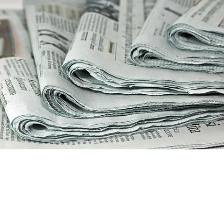news_paper: (0, 0, 224, 149)
